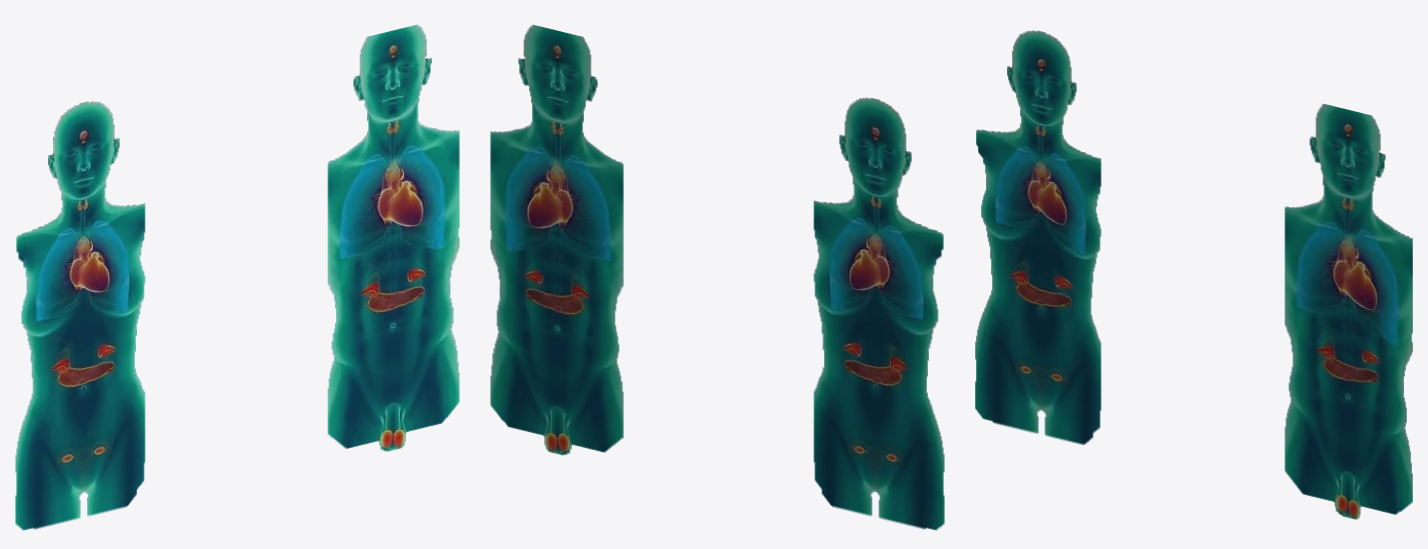
Rendered from adenoma-46.glb.
The picture shows the model from 3 angles, left to right: view 1: azimuth 30°, elevation 25°; view 2: azimuth 150°, elevation 25°; view 3: azimuth 330°, elevation 25°; orthographic projection. The views are drawn at different scales.
Parts seen in each view (by area): view 1: mesh_id61, mesh_id48; view 2: mesh_id61, mesh_id48; view 3: mesh_id61, mesh_id48.
Boxes of the visible parts, box(x1,y1,x2,y2) form: mesh_id61: box(327, 24, 459, 451); mesh_id48: box(15, 101, 145, 530); mesh_id61: box(490, 24, 623, 455); mesh_id48: box(813, 97, 944, 530); mesh_id61: box(1284, 103, 1412, 519); mesh_id48: box(975, 30, 1101, 444).
Size of the model in its own units: 0.4242 by 0.3865 by 0.00493.
Materials: 2 (2 with a texture image).
